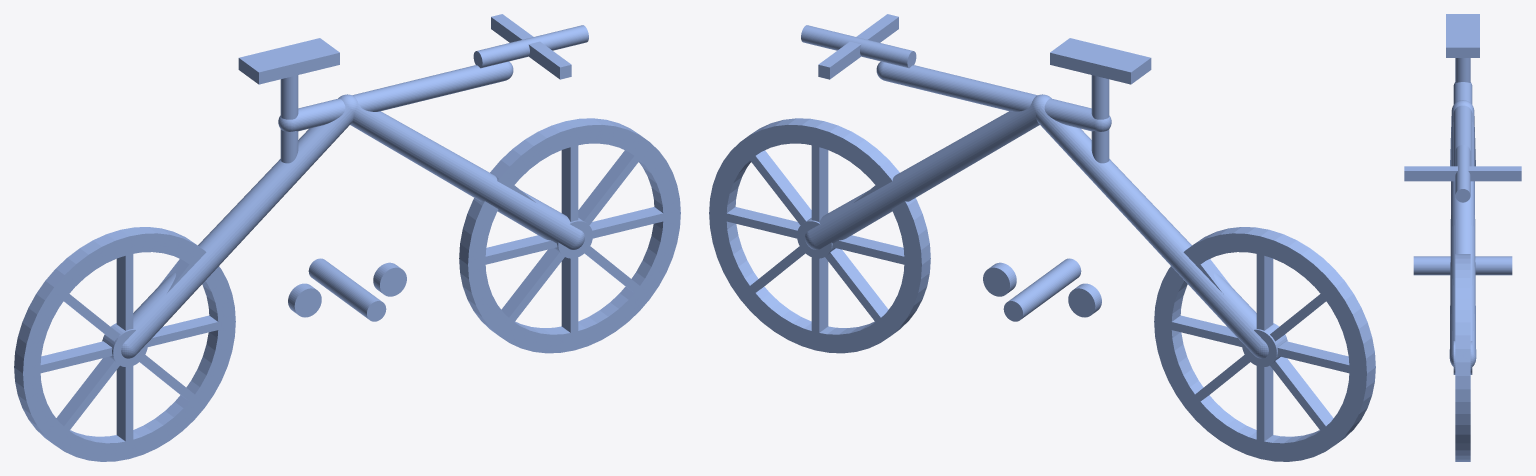
Rendered from bicycle-disc-brake-f50290c3.glb.
The picture shows the model from 3 angles, left to right: view 1: azimuth 30°, elevation 25°; view 2: azimuth 150°, elevation 25°; view 3: azimuth 270°, elevation 25°; orthographic projection. The views are drawn at different scales.
Visible parts, largest first — view 1: output; view 2: output; view 3: output.
Part boxes in pixels (x1,y1,x2,y2): output: (14,14,680,461); output: (709,14,1375,461); output: (1404,14,1521,461).
Bounding box in the file's own units: 2.3 × 1.2 × 0.4194.
